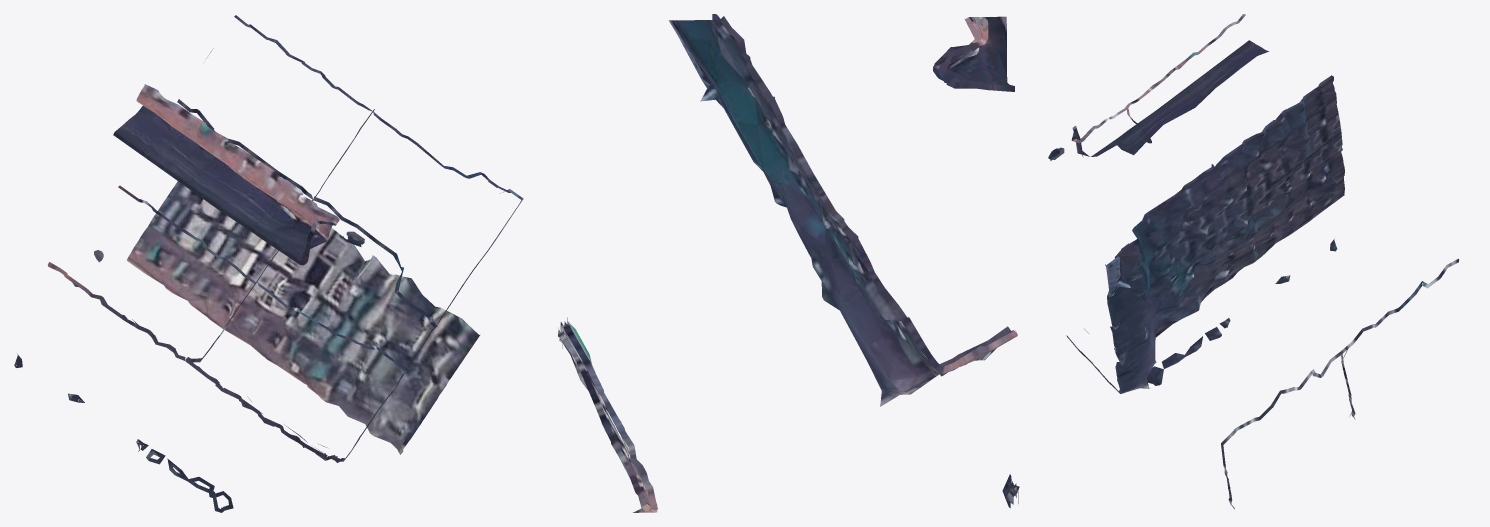
3 renders of one model, left to right at view 1: azimuth 30°, elevation 25°; view 2: azimuth 150°, elevation 25°; view 3: azimuth 270°, elevation 25°, orthographic. The views are drawn at different scales.
Bounding box in the file's own units: 49.42 × 50.24 × 50.3.
Materials: 2 (2 with a texture image).
